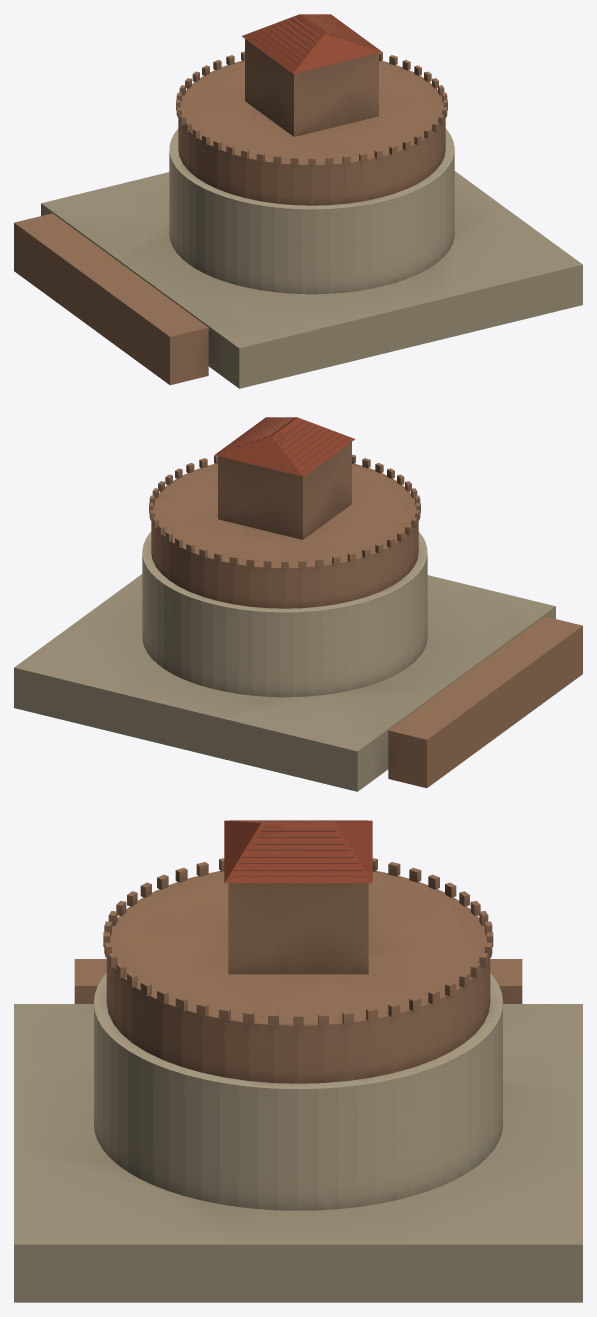
The model's file is castel-santangelo-late.glb.
3 views of the same model, one above another, from view 1: azimuth 30°, elevation 25°; view 2: azimuth 150°, elevation 25°; view 3: azimuth 270°, elevation 25° (orthographic). The views are drawn at different scales.
Parts seen in each view (by area): view 1: p0_base, p1_drum, p2_castle; view 2: p0_base, p1_drum, p2_castle; view 3: p1_drum, p0_base, p2_castle.
Part boxes in pixels (x1,y1,x2,y2): p0_base: (14,171,582,388); p1_drum: (169,51,454,294); p2_castle: (241,14,382,136); p0_base: (14,574,582,791); p1_drum: (142,454,427,697); p2_castle: (215,417,355,539); p1_drum: (94,858,502,1210); p0_base: (14,959,582,1302); p2_castle: (224,820,372,974).
Bounding box in the file's own units: 102 × 62.04 × 89.
